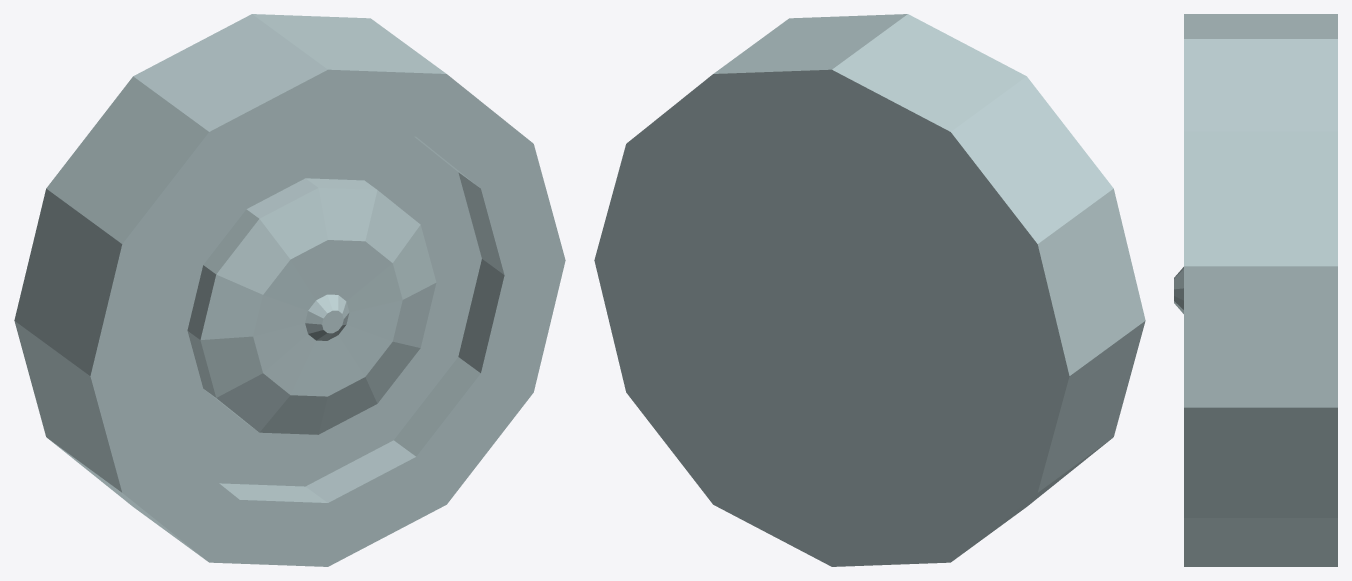
File: BeetleWheel_model.fbx
The picture shows the model from 3 angles, left to right: view 1: azimuth 30°, elevation 25°; view 2: azimuth 150°, elevation 25°; view 3: azimuth 270°, elevation 25°; orthographic projection.
Parts seen in each view (by area): view 1: Plane.002; view 2: Plane.002; view 3: Plane.002.
Boxes of the visible parts, x1,y1,x2,y2 form: Plane.002: [14, 14, 565, 566]; Plane.002: [594, 14, 1145, 566]; Plane.002: [1174, 14, 1337, 566].
Bounding box in the file's own units: 134 × 134 × 39.44.
